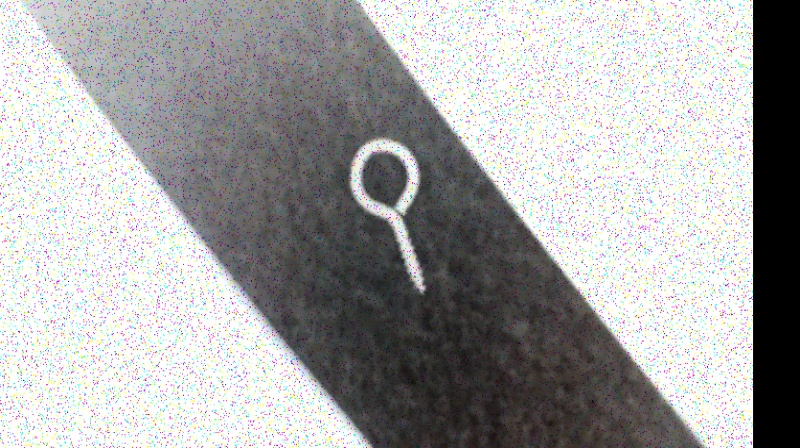O001: (344, 135, 429, 297)
